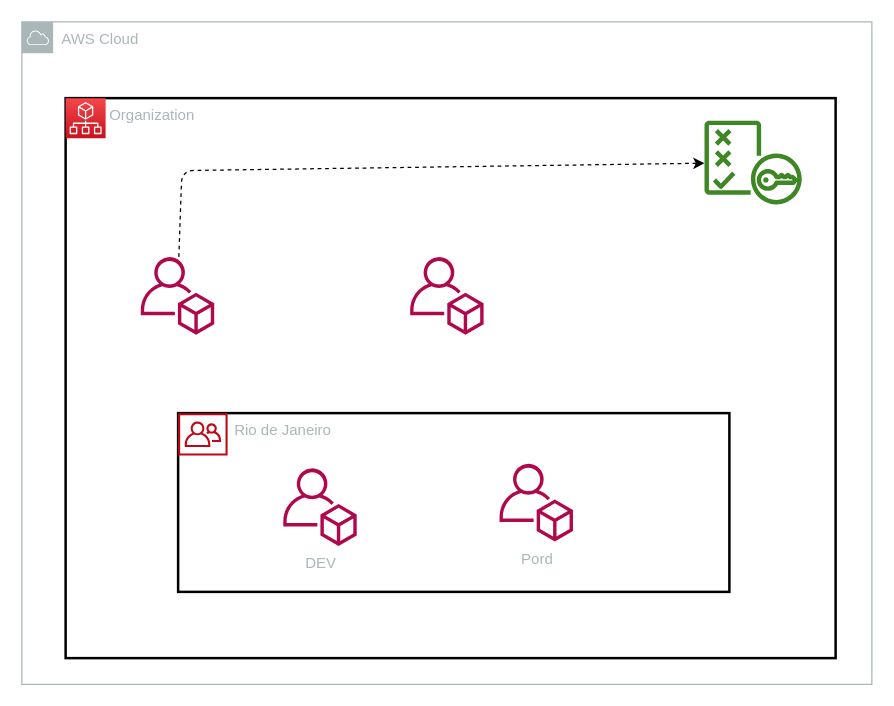
Some shapes in this 894 by 706 pixel diagram are drawn without their labels. The shapes that lost their labels are listed below. From the top down, each one's centre as x and y in pixels, then its label:
the point at 752,162: deny S3
the point at 177,295: SYSOPS
the point at 446,295: ROOT
